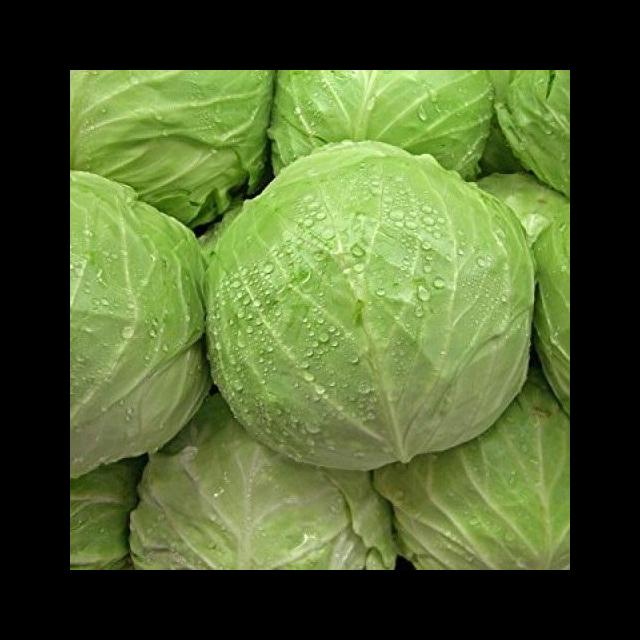cabbage: (206, 139, 537, 472), (70, 169, 207, 481), (132, 415, 400, 570), (370, 383, 570, 570), (70, 70, 270, 226), (270, 70, 488, 189)
